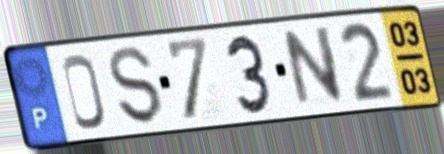0: (61, 52, 108, 133)
2: (337, 19, 397, 106)
3: (225, 32, 272, 118)
7: (166, 35, 213, 125)
N: (280, 23, 347, 112)
S: (107, 44, 166, 127)
